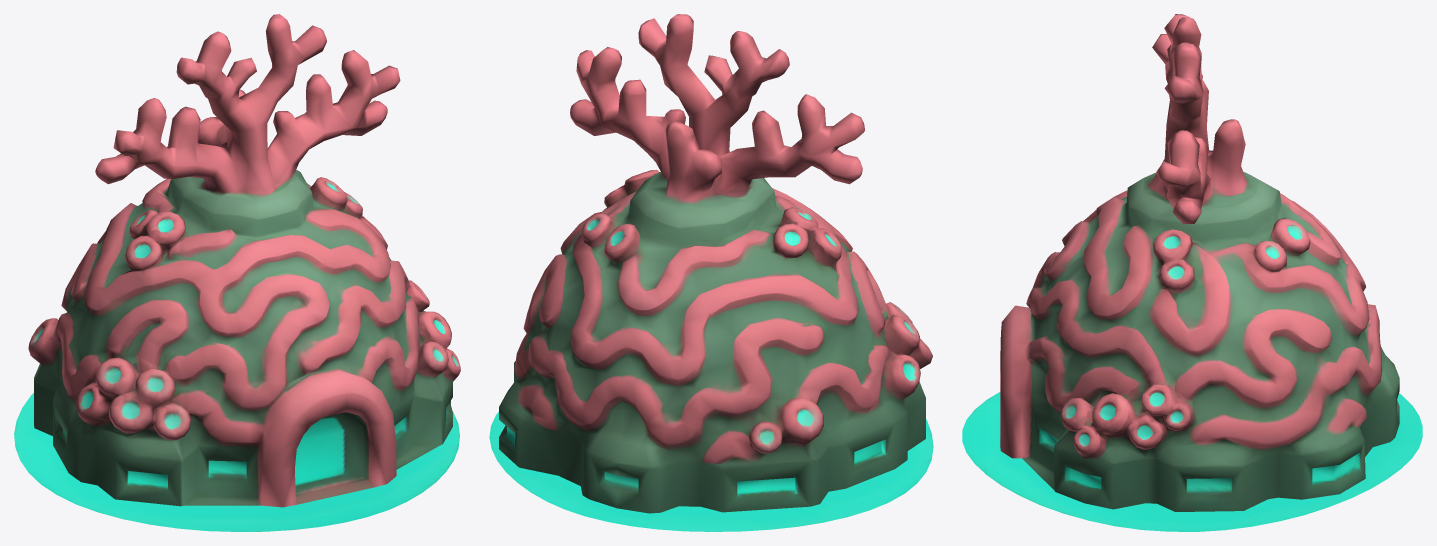
The model's file is water.shell_forge.fbx.
3 renders of one model, left to right at view 1: azimuth 30°, elevation 25°; view 2: azimuth 150°, elevation 25°; view 3: azimuth 270°, elevation 25°, orthographic.
Parts seen in each view (by area): view 1: water.shell_forge; view 2: water.shell_forge; view 3: water.shell_forge.
Part boxes in pixels (x1,y1,x2,y2): water.shell_forge: (14, 14, 460, 531); water.shell_forge: (489, 14, 933, 531); water.shell_forge: (962, 14, 1422, 531).
Size of the model in its own units: 0.9678 by 0.9912 by 1.
Materials: 1 (1 with a texture image).
